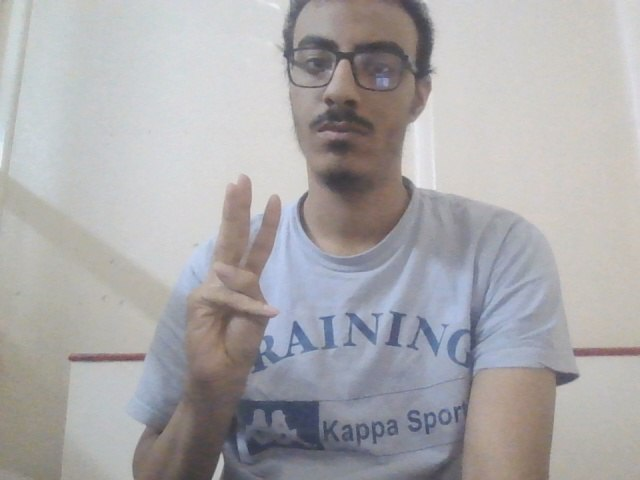Water: (179, 173, 290, 404)
